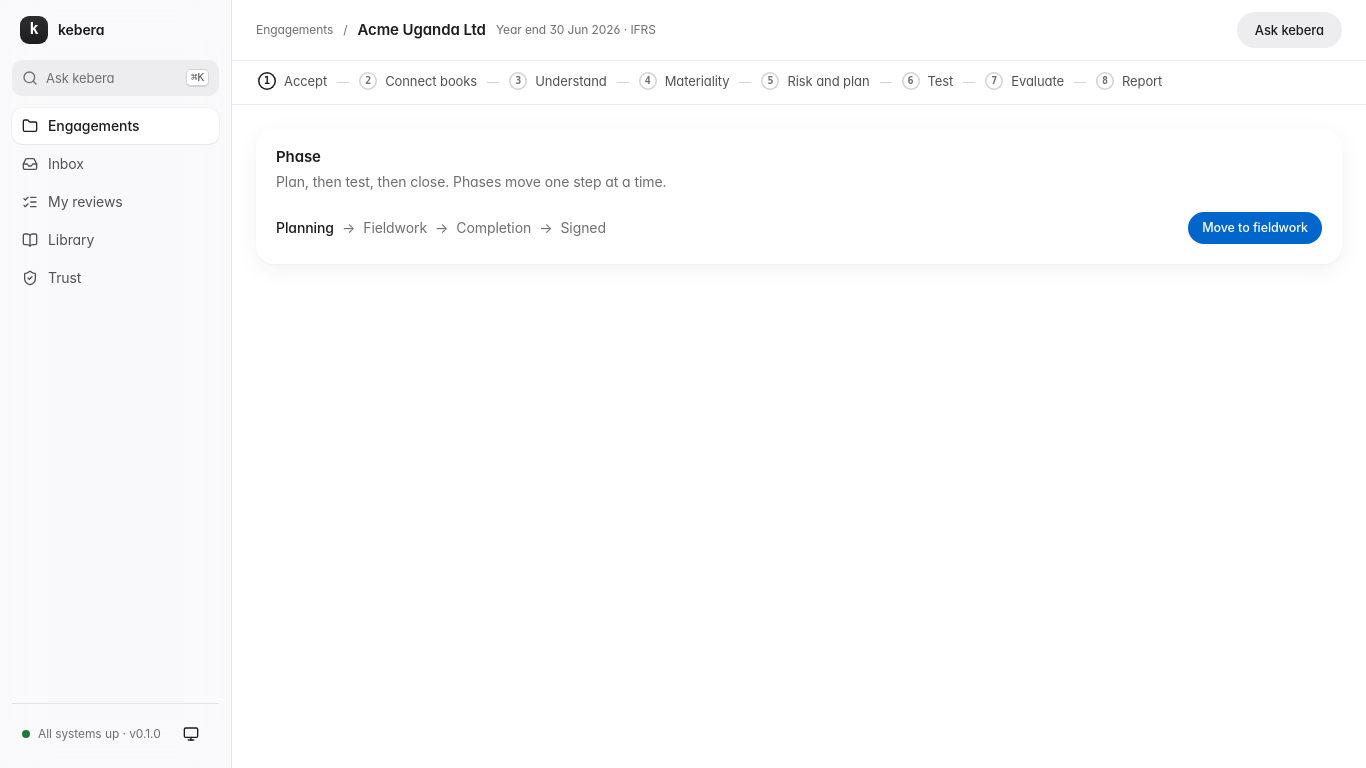
Test: engagements › moves an engagement to the next phase
The width and height of the screenshot is (1366, 768).
What coordinates should you click on to do the following:
click the button "Move to fieldwork"
I would click on:
 (1255, 228)
Its box is [1188,212,1322,244].
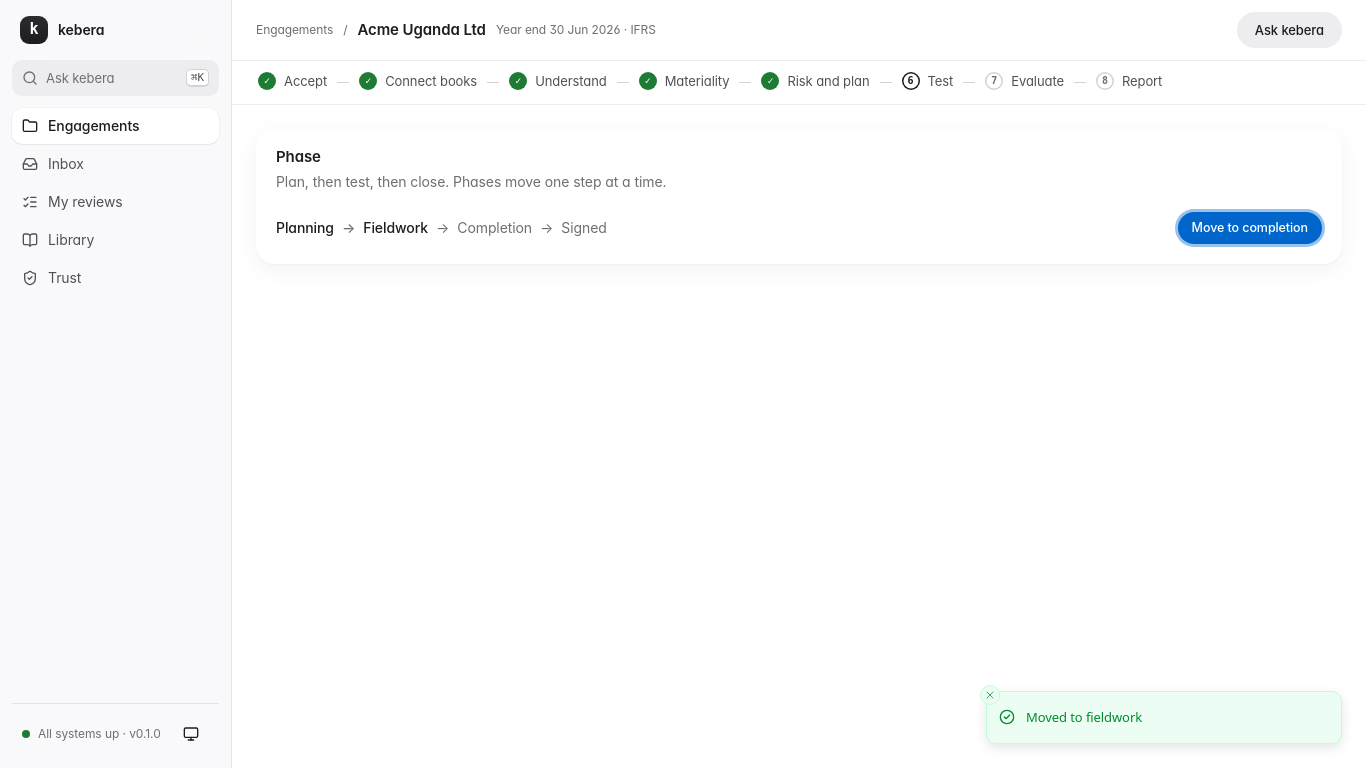
Expected: the button "Move to completion" is shown, [1178,212,1322,244]
